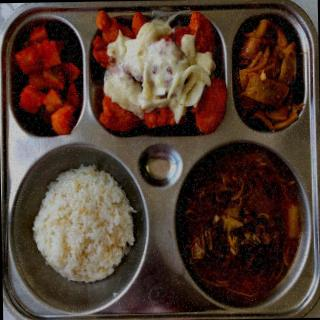Nasi: (32, 165, 141, 287)
